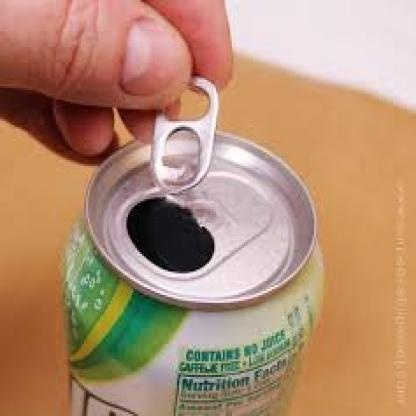trash: (65, 78, 322, 415)
